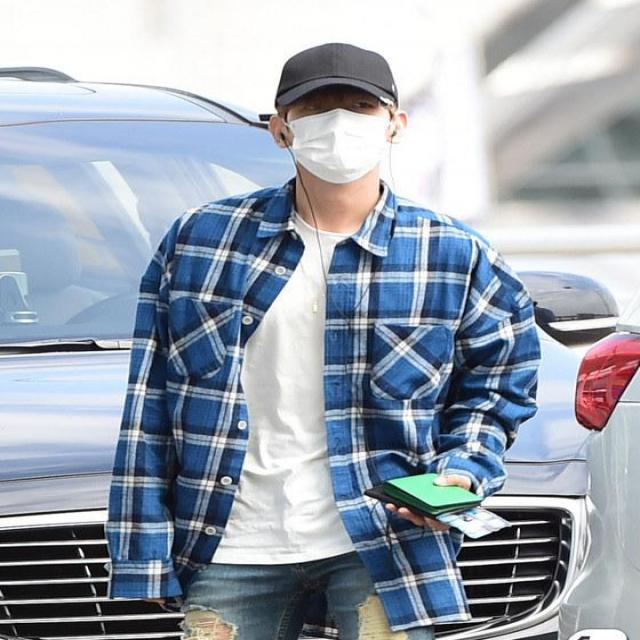mask: (287, 74, 385, 180)
